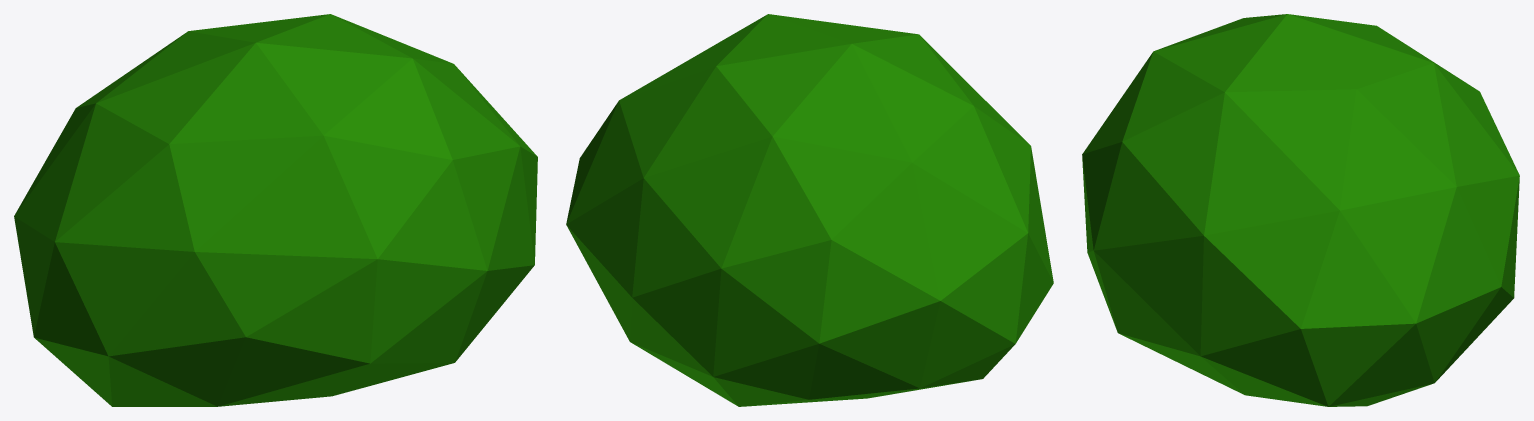
Rendered from George.fbx.
3 renders of one model, left to right at view 1: azimuth 30°, elevation 25°; view 2: azimuth 150°, elevation 25°; view 3: azimuth 270°, elevation 25°, orthographic. The views are drawn at different scales.
Visible parts, largest first — view 1: Georges; view 2: Georges; view 3: Georges.
Boxes of the visible parts, left/top/right/bottom form: Georges: left=14, top=14, right=537, bottom=406; Georges: left=566, top=14, right=1053, bottom=406; Georges: left=1082, top=14, right=1519, bottom=406.
Bounding box in the file's own units: 402 × 271 × 328.
